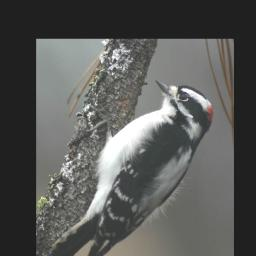Woodpecker: (46, 79, 213, 256)
